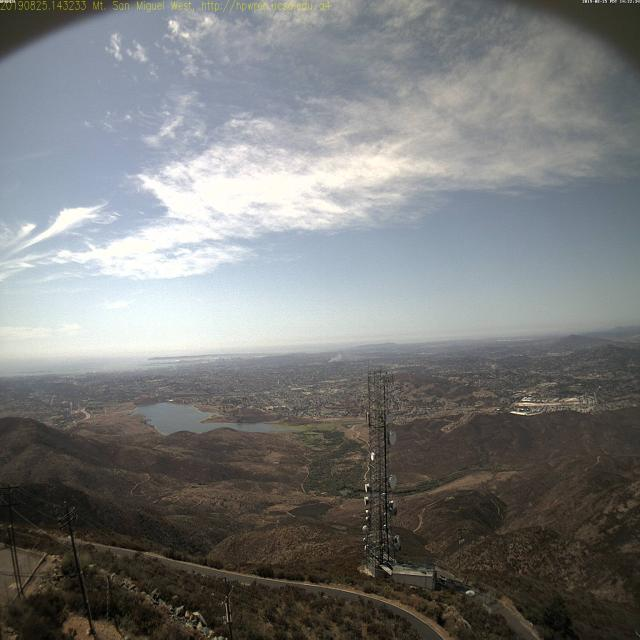smoke: (322, 346, 347, 366)
